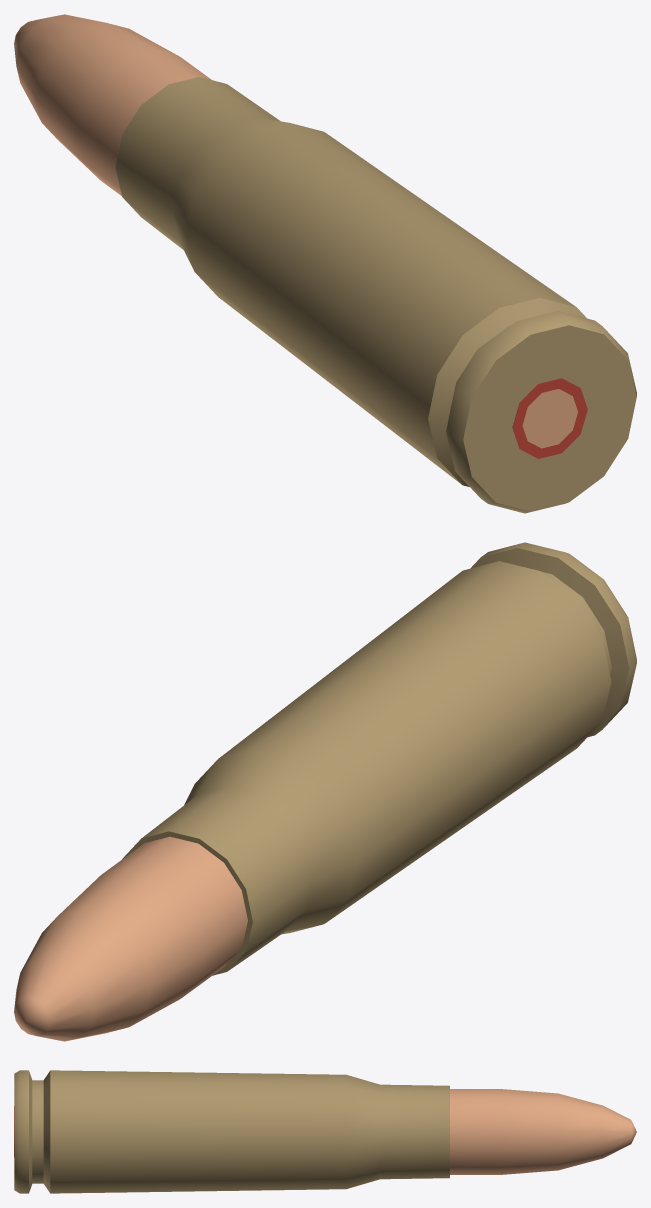
File: round_762x39_repack.glb
3 renders of one model, top to bottom at view 1: azimuth 30°, elevation 25°; view 2: azimuth 150°, elevation 25°; view 3: azimuth 270°, elevation 25°, orthographic. The views are drawn at different scales.
Parts seen in each view (by area): view 1: body; view 2: body; view 3: body.
Part boxes in pixels (box(x1,y1,x2,y2)): body: box(14, 14, 636, 513); body: box(14, 542, 636, 1041); body: box(14, 1070, 636, 1193).
Bounding box in the file's own units: 0.0112 × 0.0109 × 0.0553.
